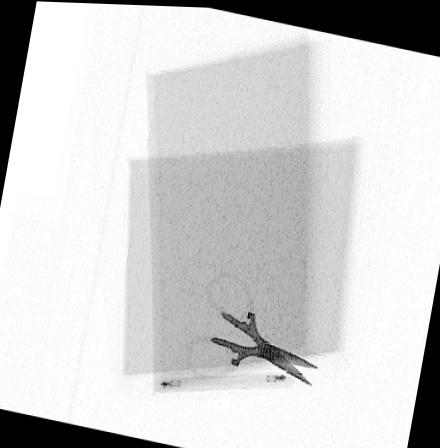Scissors: (183, 266, 324, 383)
